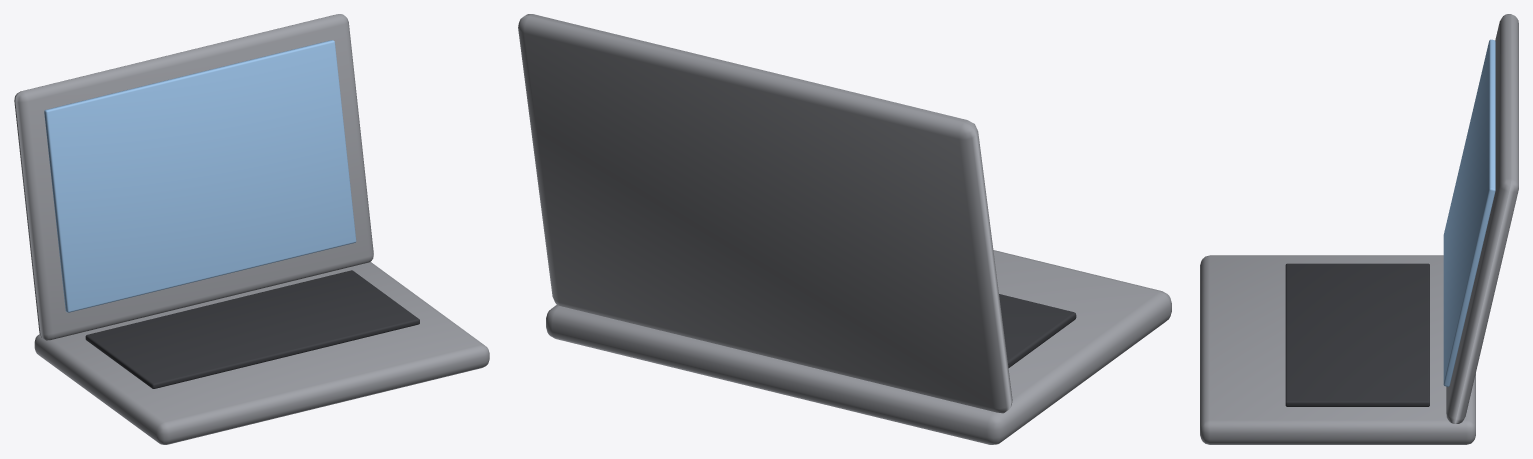
The model's file is links--github.glb.
The picture shows the model from 3 angles, left to right: view 1: azimuth 30°, elevation 25°; view 2: azimuth 150°, elevation 25°; view 3: azimuth 270°, elevation 25°; orthographic projection. The views are drawn at different scales.
Parts seen in each view (by area): view 1: links--github; view 2: links--github; view 3: links--github.
Part boxes in pixels (<box>): links--github: <box>14,14,489,444</box>; links--github: <box>518,14,1171,444</box>; links--github: <box>1200,14,1518,444</box>.
Bounding box in the file's own units: 0.6201 × 0.4453 × 0.4851.
